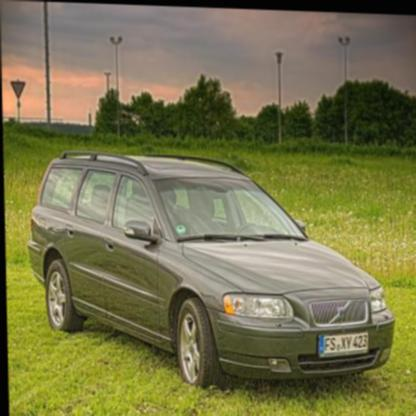License_Plate: (318, 330, 370, 356)
